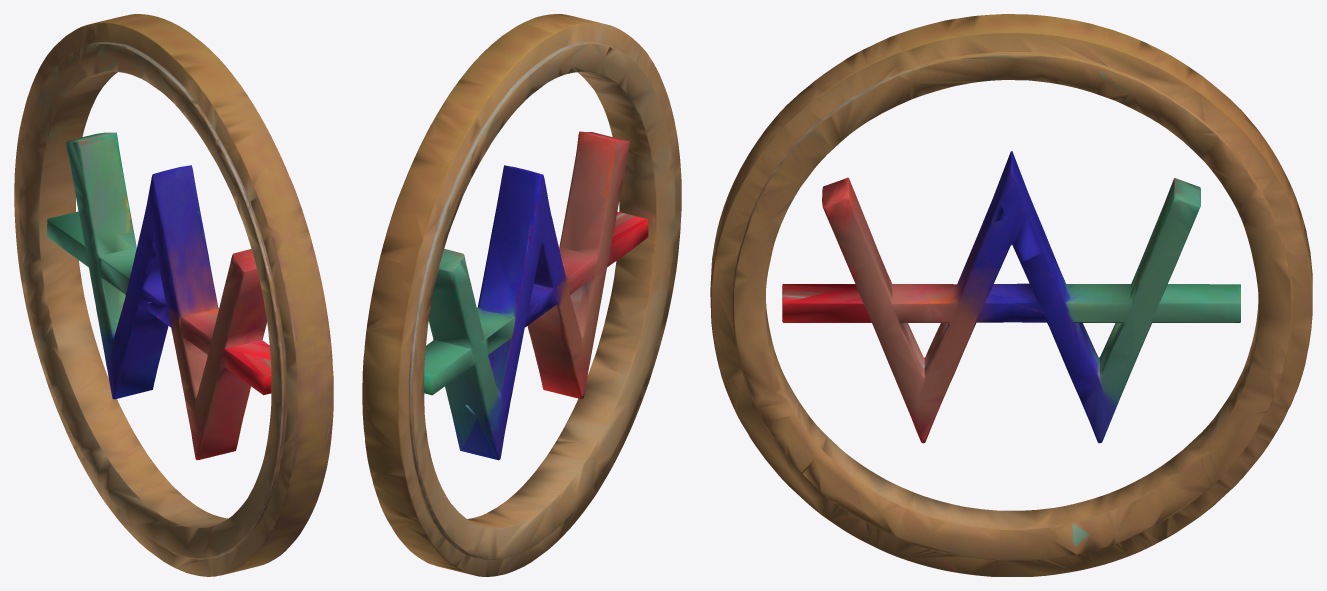
File: coin2nuevaza3.glb
3 views of the same model, side by side, from view 1: azimuth 30°, elevation 25°; view 2: azimuth 150°, elevation 25°; view 3: azimuth 270°, elevation 25° (orthographic). The views are drawn at different scales.
Visible parts, largest first — view 1: tripo_node_54634607-ffc5-4d8f-b0f9-c7c81e50c898; view 2: tripo_node_54634607-ffc5-4d8f-b0f9-c7c81e50c898; view 3: tripo_node_54634607-ffc5-4d8f-b0f9-c7c81e50c898.
Part boxes in pixels (bbox=[...]): tripo_node_54634607-ffc5-4d8f-b0f9-c7c81e50c898: bbox=[14, 14, 333, 576]; tripo_node_54634607-ffc5-4d8f-b0f9-c7c81e50c898: bbox=[362, 14, 681, 576]; tripo_node_54634607-ffc5-4d8f-b0f9-c7c81e50c898: bbox=[710, 14, 1312, 576].
Size of the model in its own units: 0.0938 by 0.9993 by 0.9996.
Materials: 1 (1 with a texture image).
